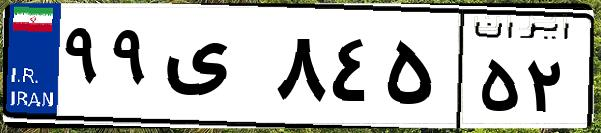2: (525, 38, 570, 115)
4: (330, 28, 385, 110)
5: (385, 28, 445, 110), (475, 38, 525, 113)
8: (270, 28, 330, 110)
9: (57, 26, 110, 100), (110, 28, 158, 98)
ی: (158, 20, 270, 120)
